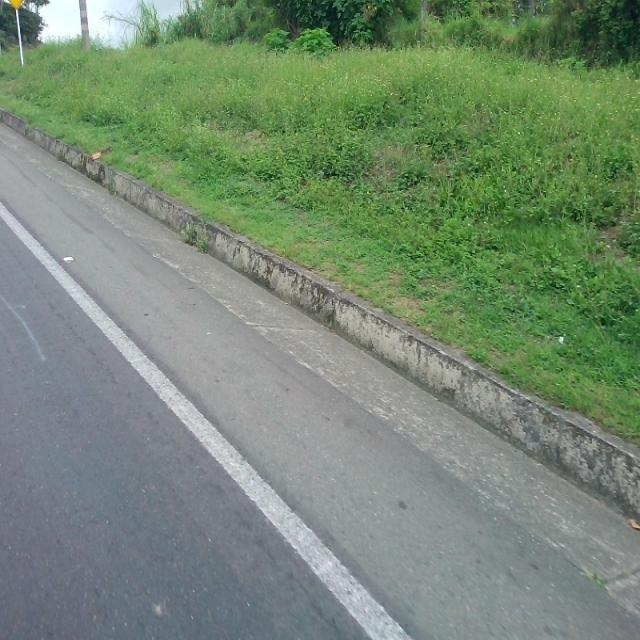DITCH: (1, 108, 639, 638)
